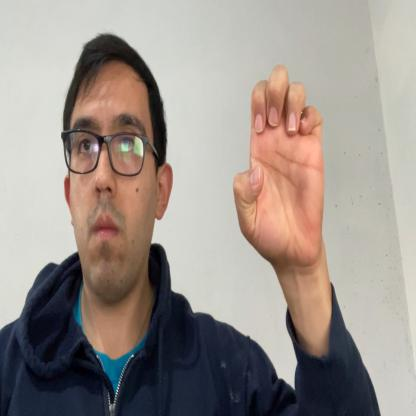E: (233, 63, 325, 266)
